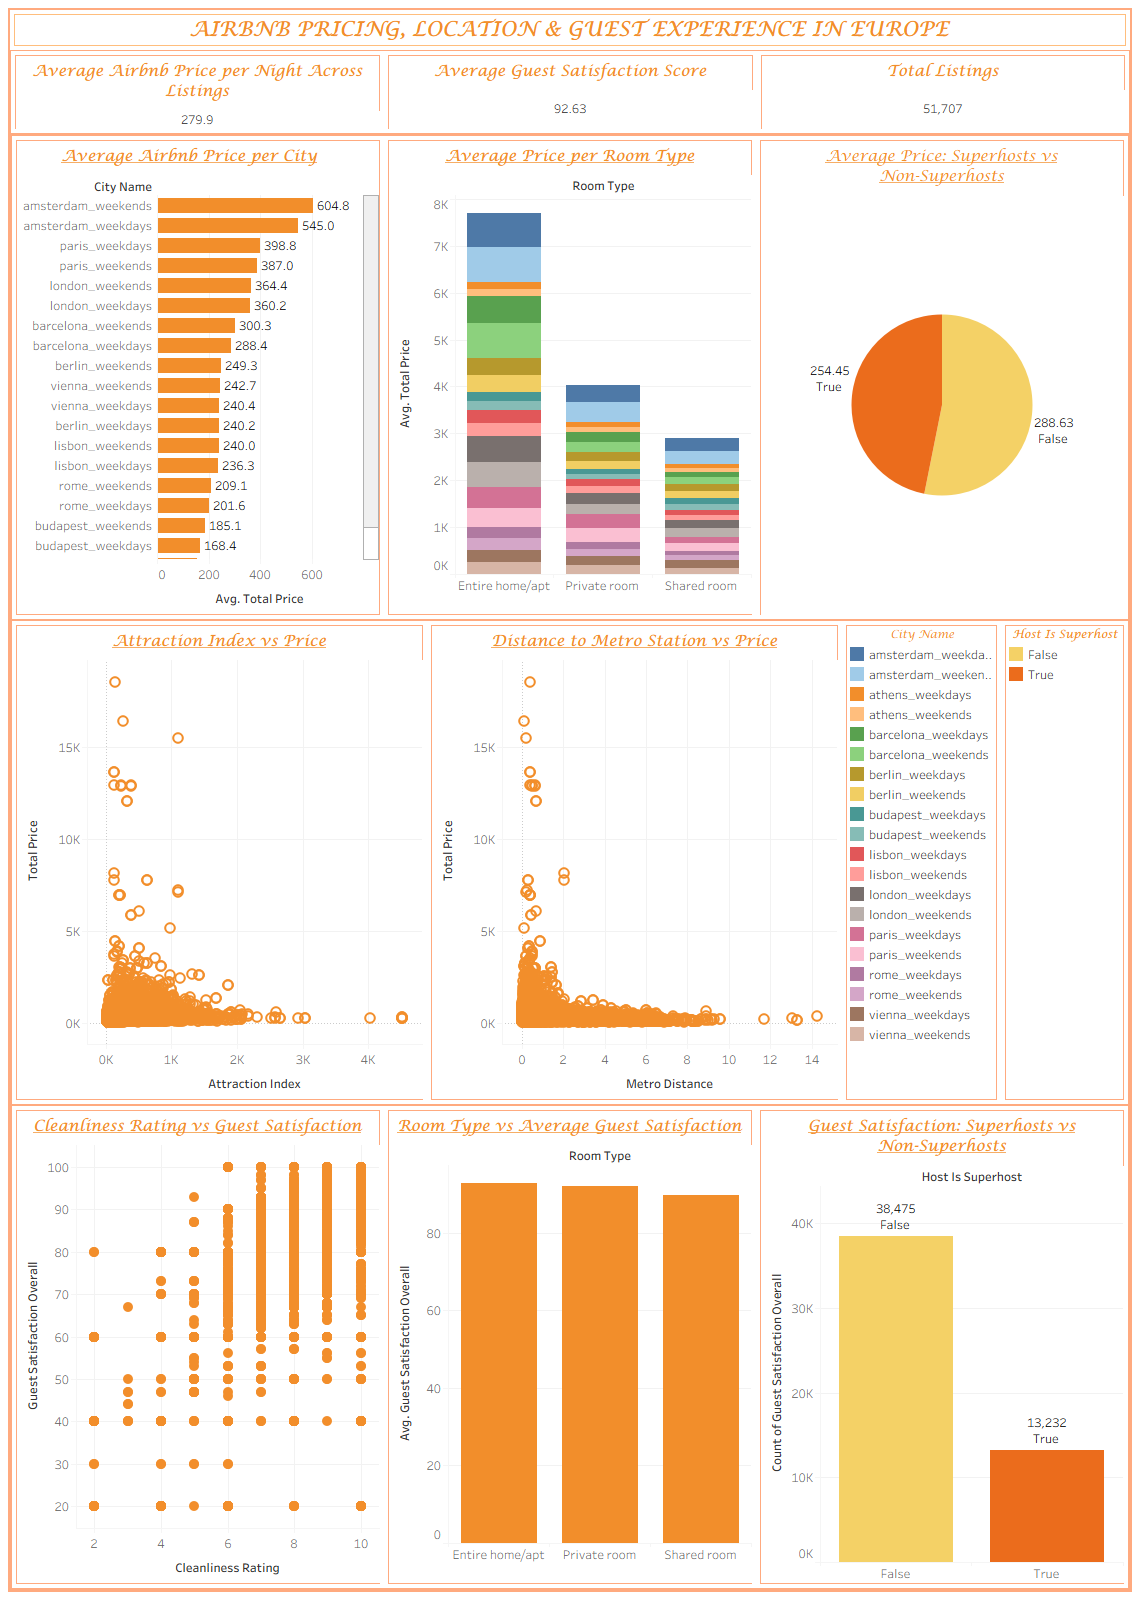

What the dashboard file says about the page in this screenshot:
{"tool":"tableau","page":{"name":"Airbnb Dashboard","canvas":[1140,1600],"ordinal":0},"visuals":[{"type":"text","box":[10,10,1120,39.9]},{"type":"worksheet","title":"Avg Price per Night","mark":"Automatic","box":[11,51,373,82]},{"type":"worksheet","title":"Avg Guest Satisfaction","mark":"Automatic","box":[384,51,373,82]},{"type":"worksheet","title":"Total Listings","mark":"Automatic","box":[757,51,372,82]},{"type":"worksheet","title":"Avg Price by City","mark":"Automatic","rows":["city_name"],"cols":["total_price"],"box":[12,136,372,483]},{"type":"worksheet","title":"Price by Room Type","mark":"Automatic","rows":["total_price"],"cols":["room_type"],"box":[384,136,372,483]},{"type":"worksheet","title":"Price by Superhost","mark":"Pie","box":[756,136,372,483]},{"type":"worksheet","title":"Price vs Attraction Index","mark":"Automatic","rows":["total_price"],"cols":["attraction_index"],"box":[12,621,415,483]},{"type":"worksheet","title":"Price vs Metro Distance","mark":"Automatic","rows":["total_price"],"cols":["metro_distance"],"box":[427,621,415,483]},{"type":"legend","title":"Price by Room Type","param":"[federated.0ibbnjt1jgxpu212xl078085gsu5].[none:city_name:nk]","box":[842,621,159,483]},{"type":"legend","title":"Price by Superhost","param":"[federated.0ibbnjt1jgxpu212xl078085gsu5].[none:host_is_superhost:nk]","box":[1001,621,127,483]},{"type":"worksheet","title":"Satisfaction vs Cleanliness","mark":"Circle","rows":["guest_satisfaction_overall"],"cols":["cleanliness_rating"],"box":[12,1106,372,482]},{"type":"worksheet","title":"Satisfaction vs Room Type","mark":"Automatic","rows":["guest_satisfaction_overall"],"cols":["room_type"],"box":[384,1106,372,482]},{"type":"worksheet","title":"Satisfaction vs Host Type","mark":"Automatic","rows":["guest_satisfaction_overall"],"cols":["host_is_superhost"],"box":[756,1106,372,482]}]}

Visuals, with their boxes in screenshot pixels (x1, y1, x2, y2), scaled from the page's 1140x1600 canvas onto the 1140x1600 screenshot:
text: detection(10, 10, 1130, 50)
"Avg Price per Night" worksheet: detection(11, 51, 384, 133)
"Avg Guest Satisfaction" worksheet: detection(384, 51, 757, 133)
"Total Listings" worksheet: detection(757, 51, 1129, 133)
"Avg Price by City" worksheet: detection(12, 136, 384, 619)
"Price by Room Type" worksheet: detection(384, 136, 756, 619)
"Price by Superhost" worksheet (Pie marks): detection(756, 136, 1128, 619)
"Price vs Attraction Index" worksheet: detection(12, 621, 427, 1104)
"Price vs Metro Distance" worksheet: detection(427, 621, 842, 1104)
"Price by Room Type" legend: detection(842, 621, 1001, 1104)
"Price by Superhost" legend: detection(1001, 621, 1128, 1104)
"Satisfaction vs Cleanliness" worksheet (Circle marks): detection(12, 1106, 384, 1588)
"Satisfaction vs Room Type" worksheet: detection(384, 1106, 756, 1588)
"Satisfaction vs Host Type" worksheet: detection(756, 1106, 1128, 1588)
